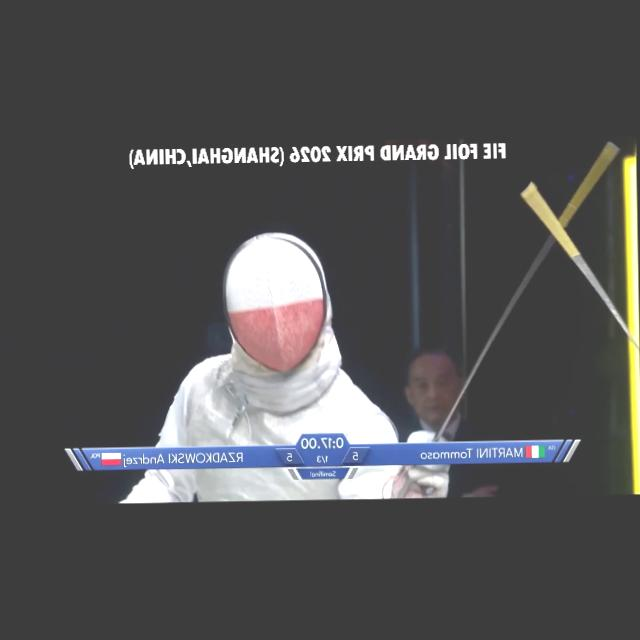blade: (396, 136, 624, 483), (517, 173, 640, 364)
